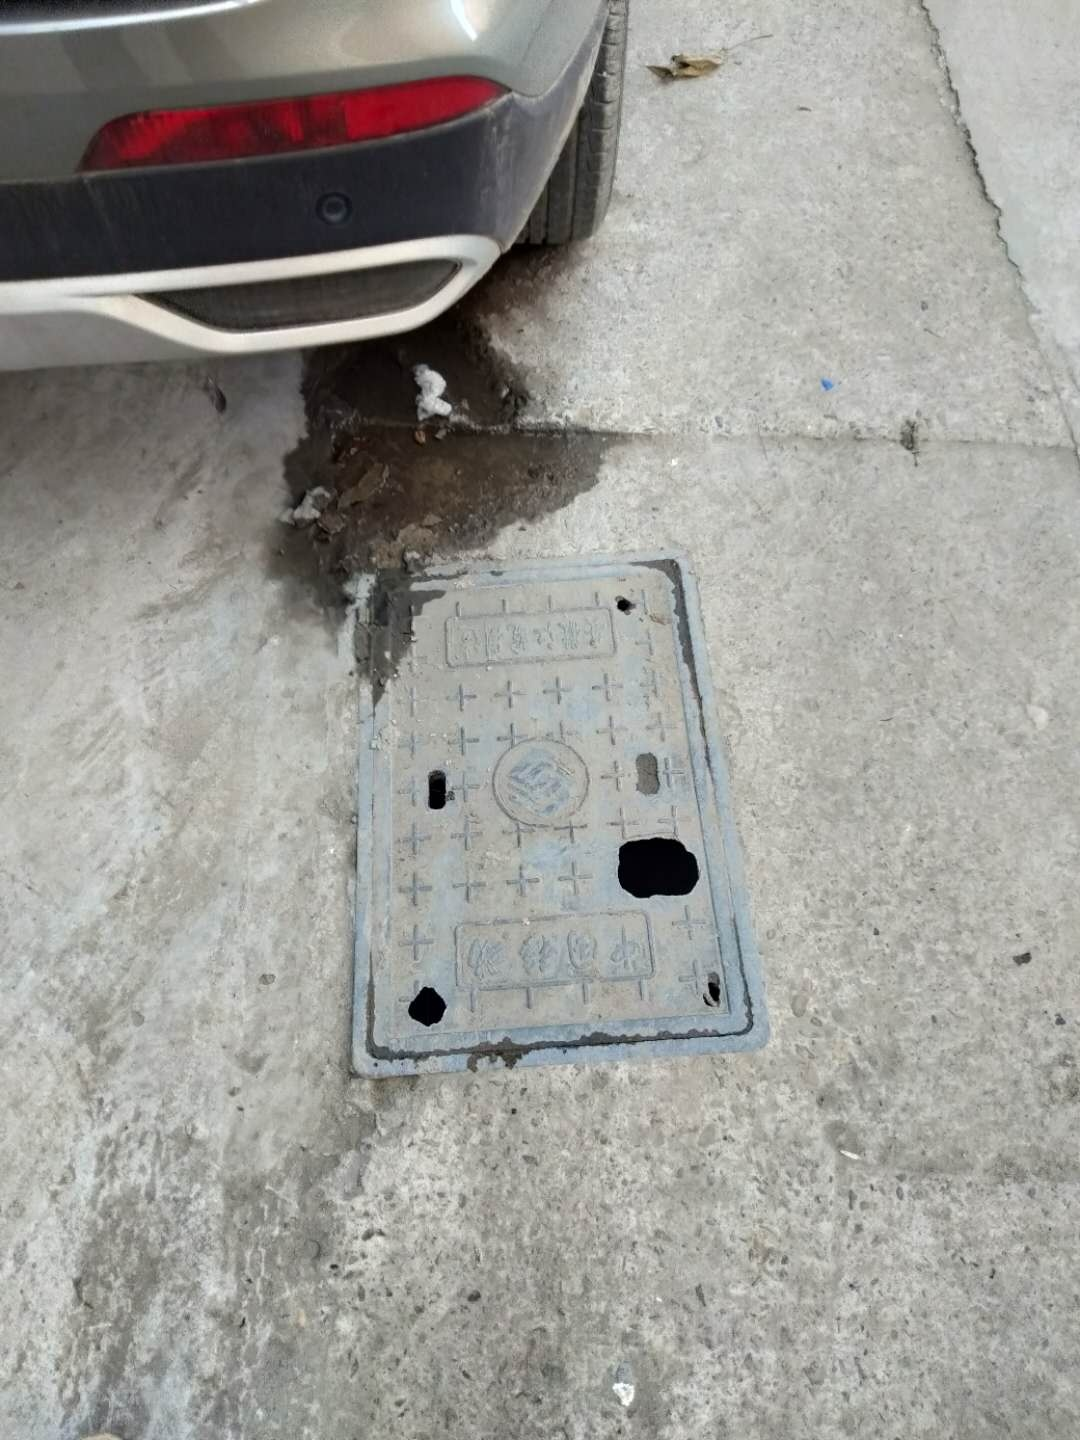broke: (347, 550, 773, 1076)
